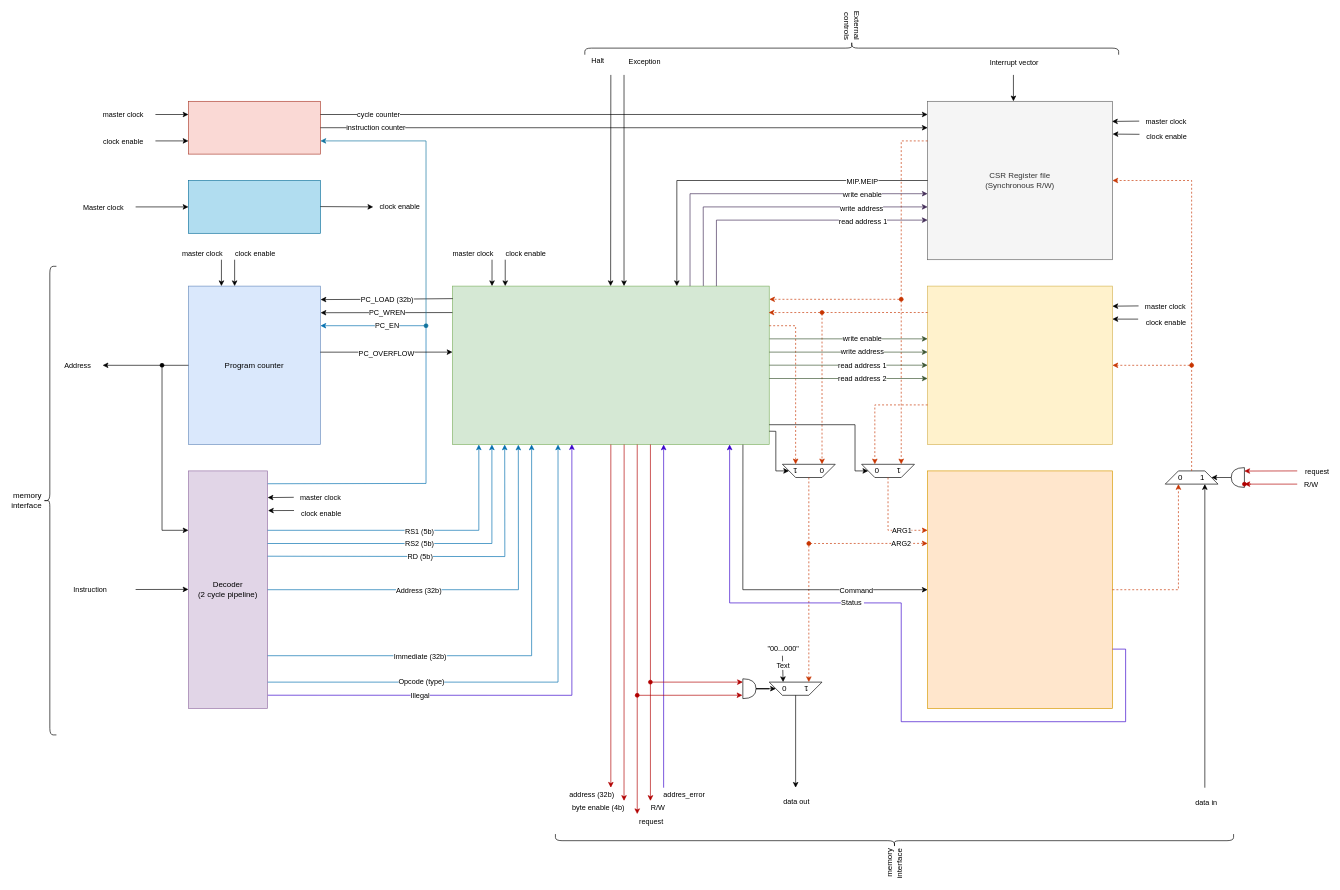
Image size: 1340x890. Some labels were removed from this diagram. The shapes that lost their labels are listed below. From the top down, each one's centre as x and y in pixels, then its label:
At (254,127): "counters".
At (254,206): "Clock generator".
At (610,365): "Controller (2 cycle pipeline)".
At (1019,365): "Register file (synchronous R/W)".
At (1019,589): "ALU (combinational logic)".
